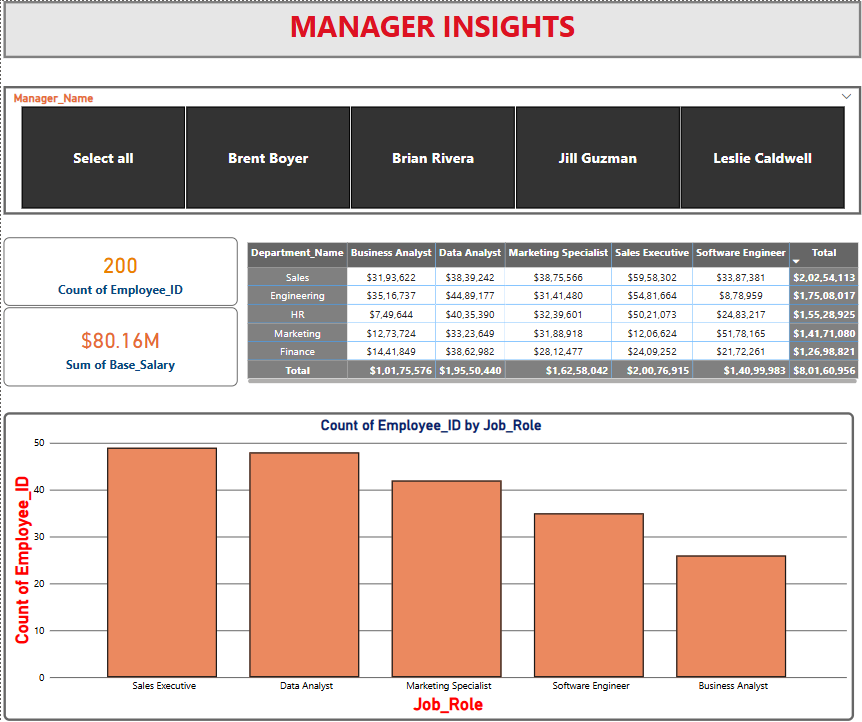

The page's visual inventory and layout, read from the dashboard file:
{"tool":"powerbi","page":{"name":"Page 2","canvas":[1440,1300],"ordinal":1},"visuals":[{"type":"textbox","box":[4.9,0,1429.5,95.1],"z":0},{"type":"slicer","fields":{"Values":["Manager_Info.Manager_Name"]},"box":[4.9,141,1429.5,214.8],"z":1},{"type":"card","fields":{"Values":["Employee_Details.Employee_ID"]},"box":[4.8,393.5,390.3,114.5],"z":2},{"type":"card","fields":{"Values":["Salary_Info.Base_Salary"]},"box":[4.8,511.3,390.3,132.3],"z":3},{"type":"columnChart","fields":{"Category":["Job_Info.Job_Role"],"Y":["Employee_Details.Employee_ID"]},"box":[4.8,685.5,1417.7,514.5],"z":4},{"type":"pivotTable","fields":{"Rows":["Department.Department_Name"],"Columns":["Job_Info.Job_Role"],"Values":["Salary_Info.Base_Salary"]},"box":[406.5,398.4,1027.4,245.2],"z":5}]}

Visuals, with their boxes on the page's 1440x1300 design canvas (x1, y1, x2, y2). These are canvas units, not pixel positions in the 862x722 screenshot, which may show the page scaled, cropped or inside an application window:
textbox: {"left": 5, "top": 0, "right": 1434, "bottom": 95}
slicer - Manager_Info.Manager_Name: {"left": 5, "top": 141, "right": 1434, "bottom": 356}
card - Employee_Details.Employee_ID: {"left": 5, "top": 394, "right": 395, "bottom": 508}
card - Salary_Info.Base_Salary: {"left": 5, "top": 511, "right": 395, "bottom": 644}
columnChart - Job_Info.Job_Role x Employee_Details.Employee_ID: {"left": 5, "top": 686, "right": 1422, "bottom": 1200}
pivotTable - Department.Department_Name x Job_Info.Job_Role: {"left": 406, "top": 398, "right": 1434, "bottom": 644}
